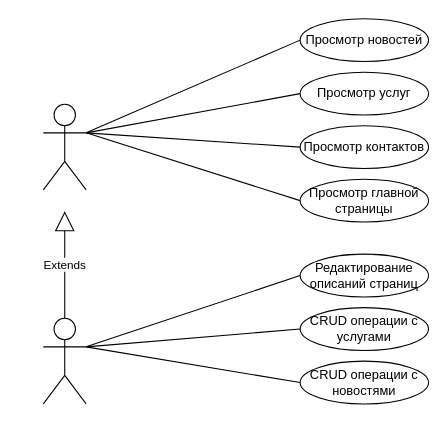
This 447x445 diagram has some shape labels left out. Each missing label, with the centre of its shape:
Администратор: point (64, 360)
Посетитель: point (64, 146)
